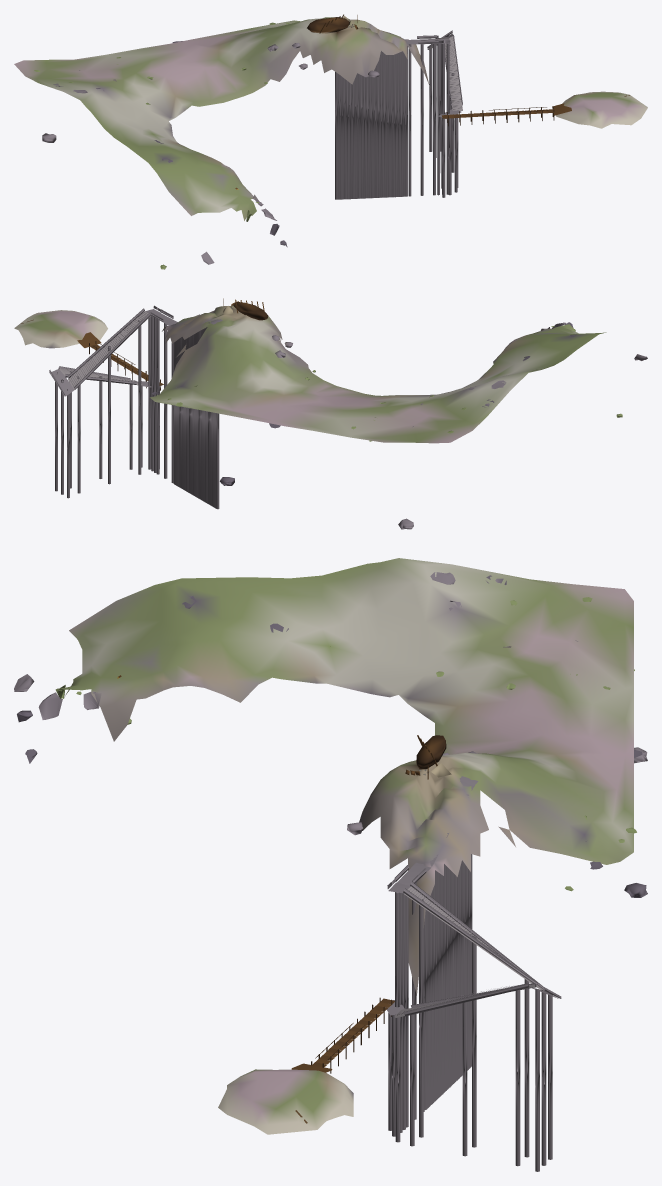
File: coast_isl_beached_wreck_lod1.glb
The picture shows the model from 3 angles, top to bottom: view 1: azimuth 30°, elevation 25°; view 2: azimuth 150°, elevation 25°; view 3: azimuth 270°, elevation 25°; orthographic projection. The views are drawn at different scales.
Visible parts, largest first — view 1: coast_isl_beached_wreck_lod1; view 2: coast_isl_beached_wreck_lod1; view 3: coast_isl_beached_wreck_lod1.
Part boxes in pixels (left/top/right/bottom): coast_isl_beached_wreck_lod1: left=14, top=14, right=647, bottom=269; coast_isl_beached_wreck_lod1: left=14, top=298, right=647, bottom=529; coast_isl_beached_wreck_lod1: left=14, top=558, right=647, bottom=1171.
Size of the model in its own units: 216 by 75.66 by 140.
